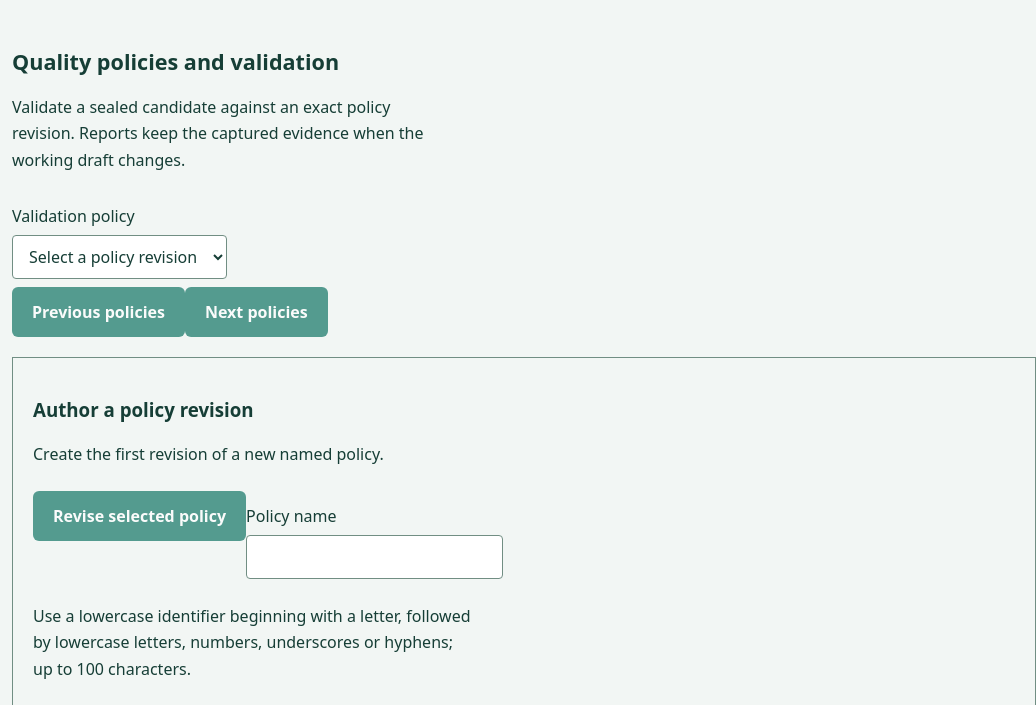
Test: candidate quality evidence › starts a new report then resumes bounded checkpoints without reporting a running gate as passed
The image size is (1036, 705).
Select "ready · revision 1" in the dropdown labelled "Validation policy": (120,257) [12,235,227,279]
(page scrolled)
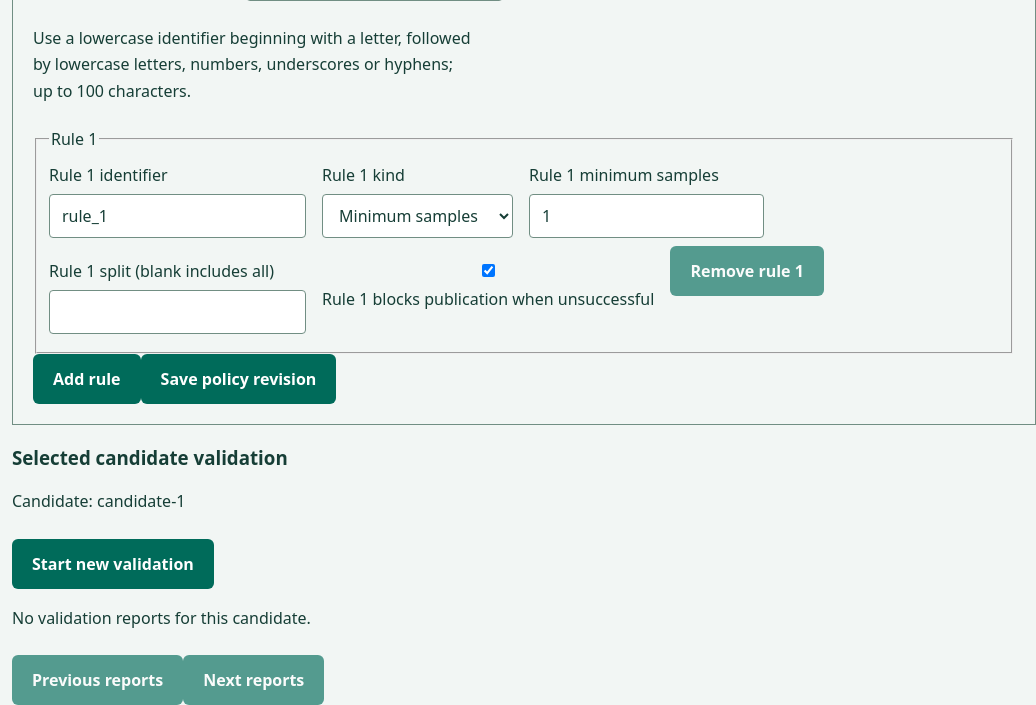
Click the button "Start new validation": (113,564) [12,539,214,589]
(page scrolled)
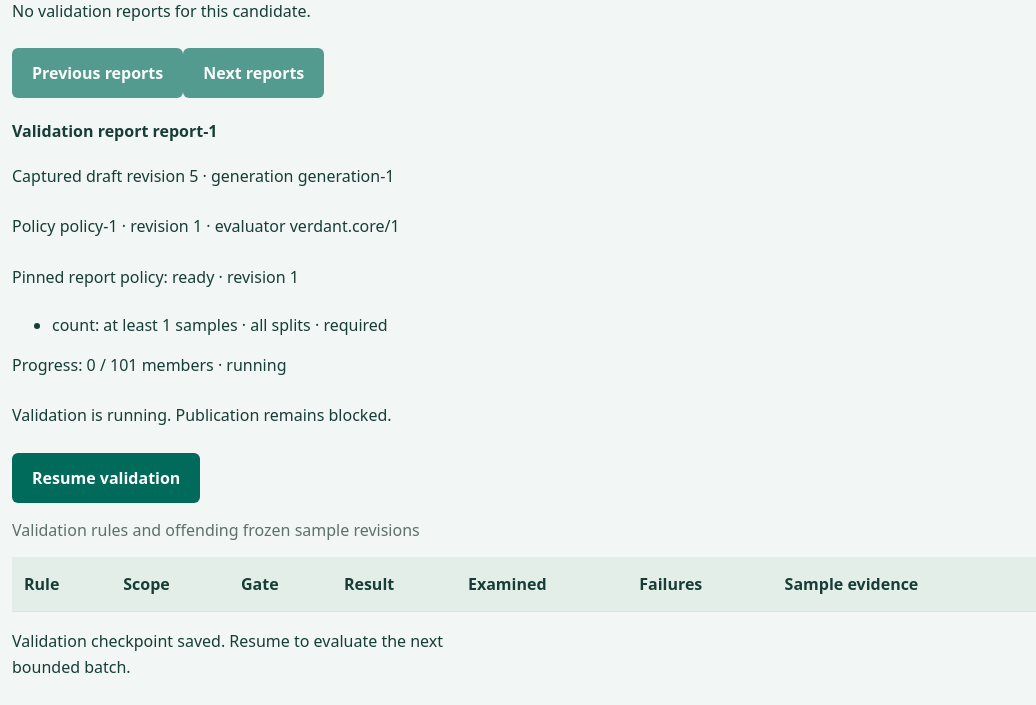
expect the text "Required gates passed" is not shown: met
expect the text "Validation is running. Publication remains blocked." is shown: met, box [12,402,451,429]
Click the button "Resume validation": (106,478) [12,453,200,503]
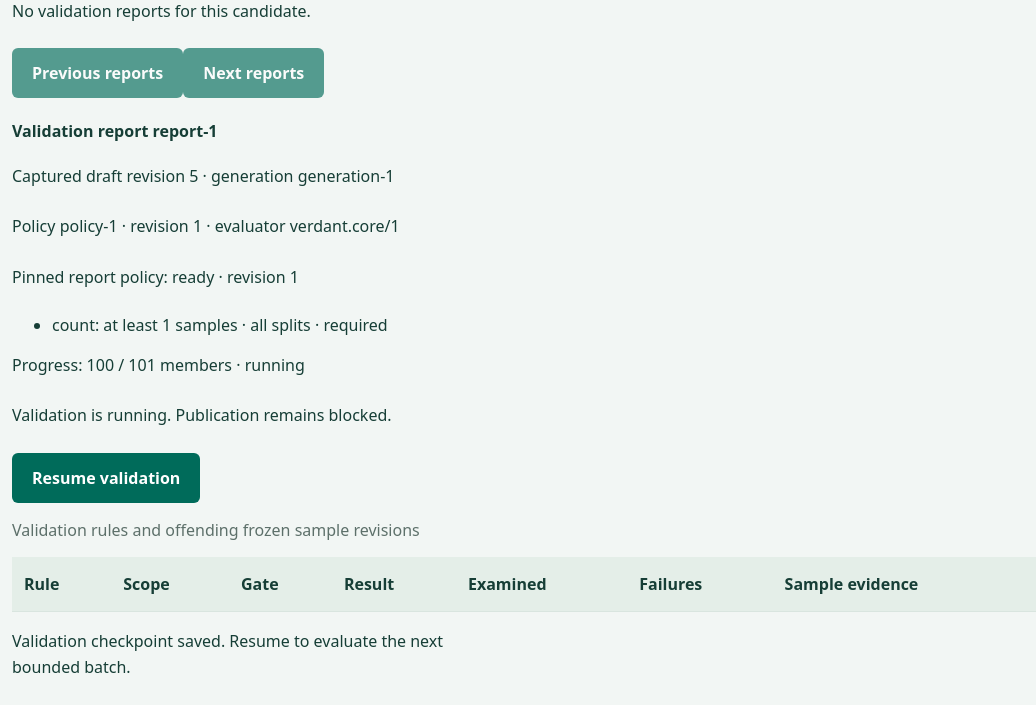
expect the text "Progress: 100 / 101 members · running" is shown: met, box [12,354,305,376]
Click the button "Resume validation": (106,478) [12,453,200,503]
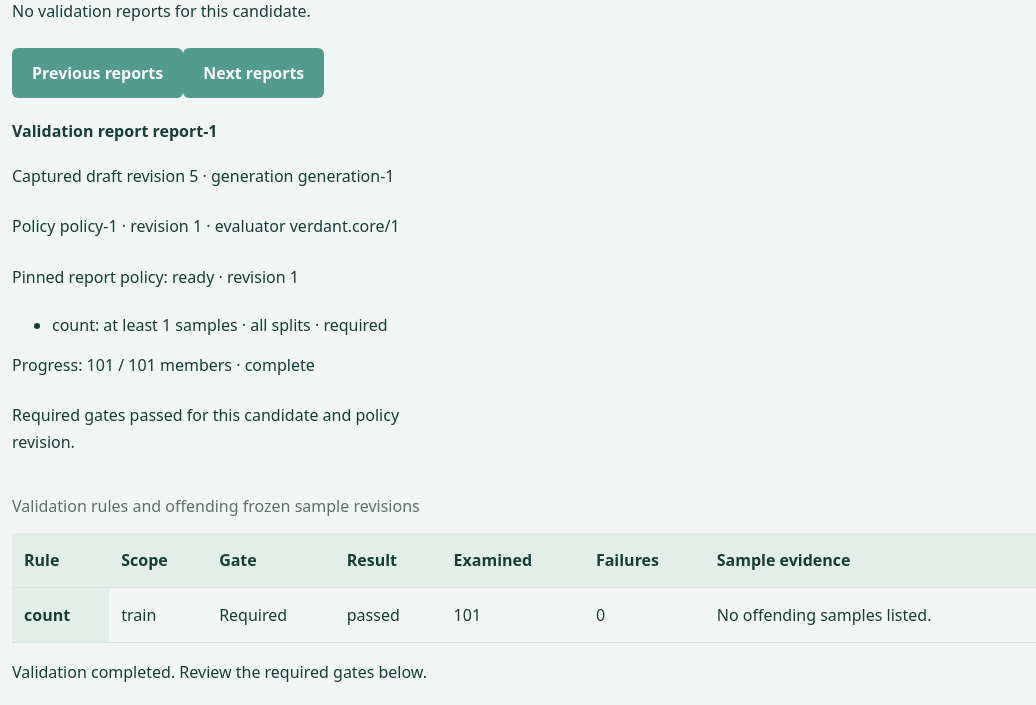
expect the text "Required gates passed for this candidate and policy revision." is shown: met, box [12,402,451,455]
